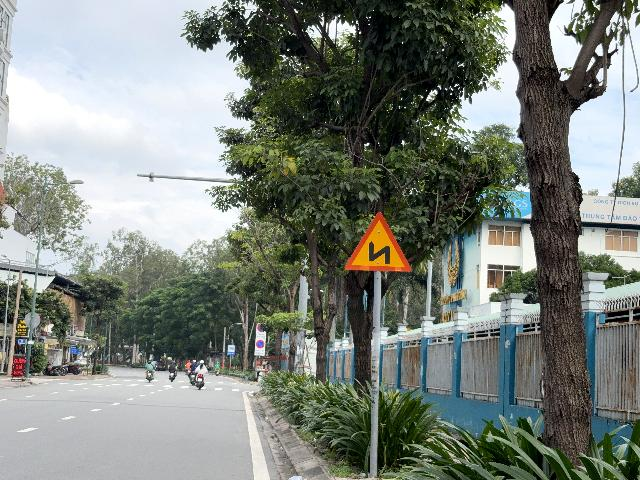nhieu-cho-ngoat-nguy-hiem-lien-tiep: (344, 211, 412, 272)
